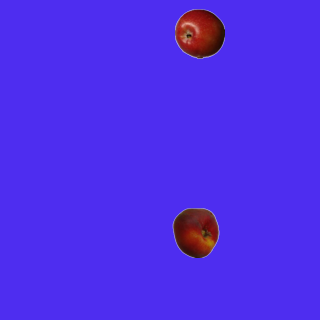Apple Braeburn: (174, 8, 224, 58)
Nectarine Flat: (170, 207, 220, 257)
